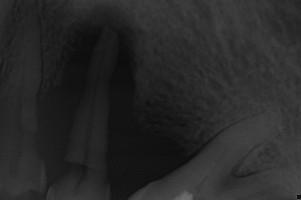Dental Caries: (64, 2, 137, 67)
Endo-Periodontal Lesion: (230, 163, 261, 179)
